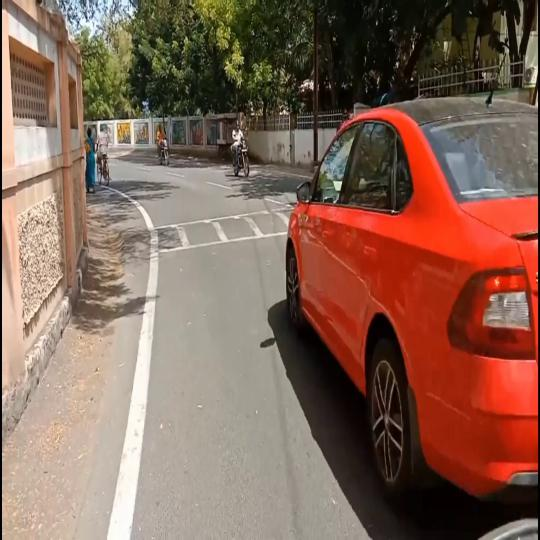Speed Bump: (124, 206, 286, 262)
